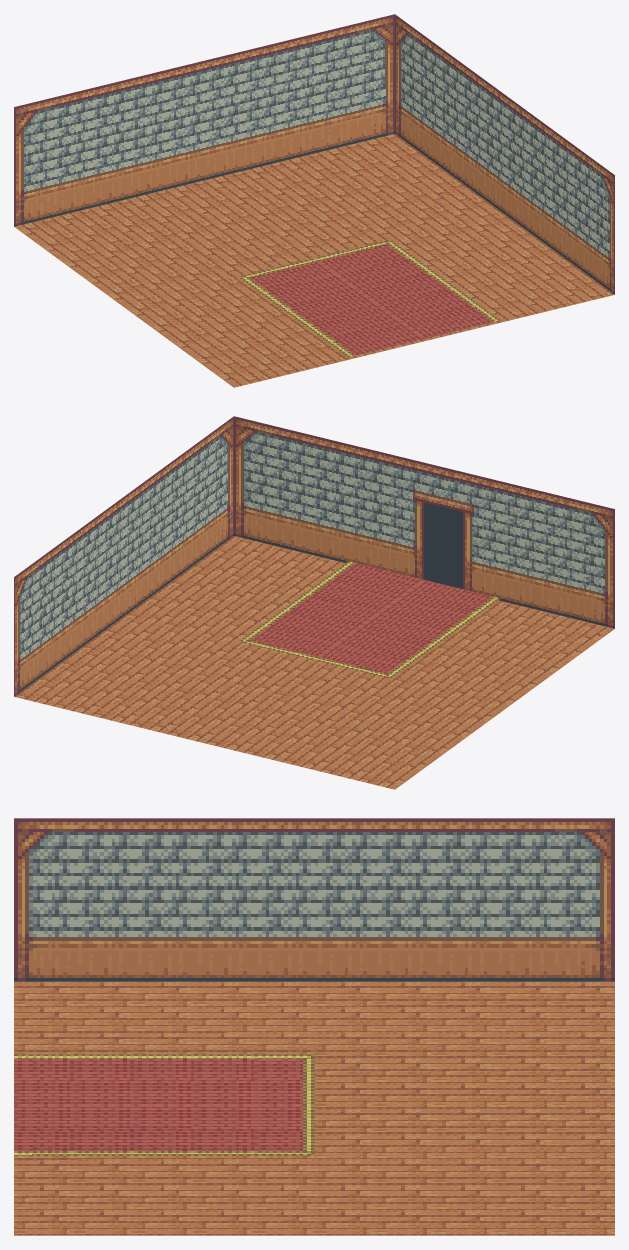
The model's file is Shop_Interior.gltf.
3 renders of one model, top to bottom at view 1: azimuth 30°, elevation 25°; view 2: azimuth 150°, elevation 25°; view 3: azimuth 270°, elevation 25°, orthographic. The views are drawn at different scales.
Bounding box in the file's own units: 10 × 3 × 10.
Materials: 1 (1 with a texture image).
